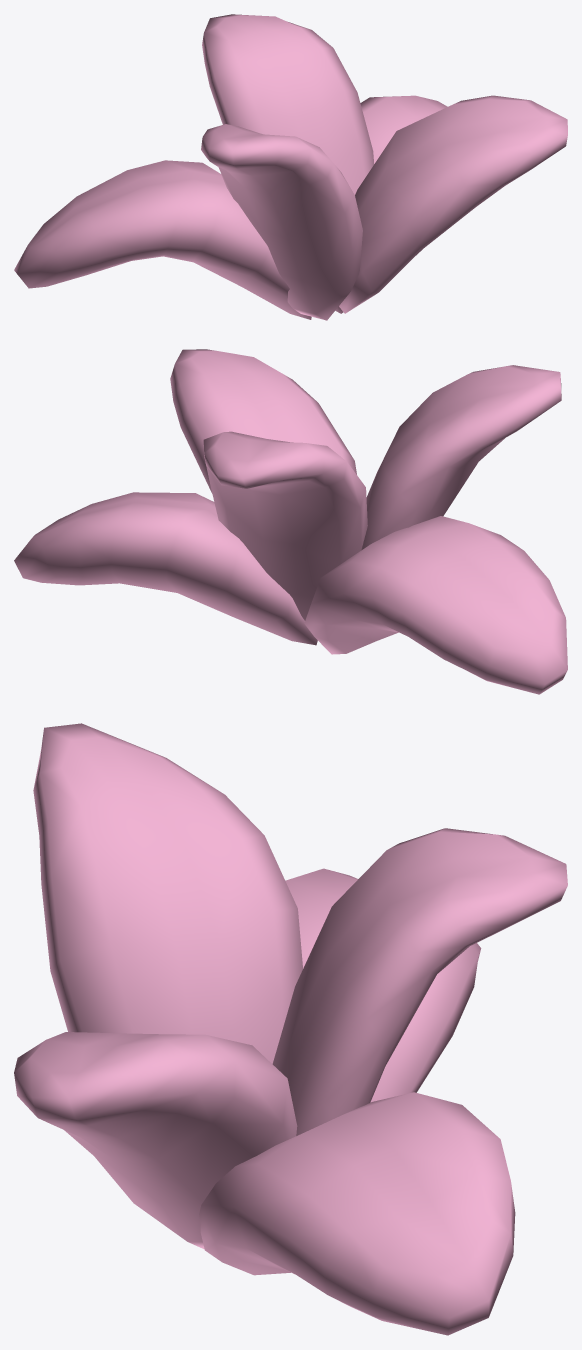
The model's file is Flower_04.fbx.
3 views of the same model, one above another, from view 1: azimuth 30°, elevation 25°; view 2: azimuth 150°, elevation 25°; view 3: azimuth 270°, elevation 25° (orthographic). The views are drawn at different scales.
Parts seen in each view (by area): view 1: polySurface667; view 2: polySurface667; view 3: polySurface667.
Boxes of the visible parts, x1,y1,x2,y2 form: polySurface667: [14, 14, 567, 320]; polySurface667: [14, 349, 567, 694]; polySurface667: [14, 723, 567, 1335].
Size of the model in its own units: 66.2 by 31.74 by 39.28.
